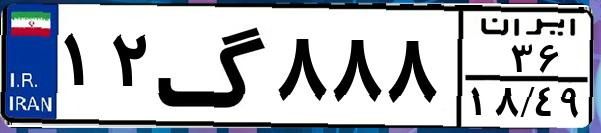1: (57, 26, 110, 100), (470, 70, 495, 125)
2: (110, 28, 156, 98)
3: (508, 27, 537, 80)
4: (535, 70, 560, 125)
6: (537, 27, 568, 80)
8: (270, 28, 330, 110), (385, 28, 445, 110), (330, 28, 385, 110), (495, 70, 520, 125)
9: (560, 70, 590, 125)
گ: (156, 12, 270, 120)
